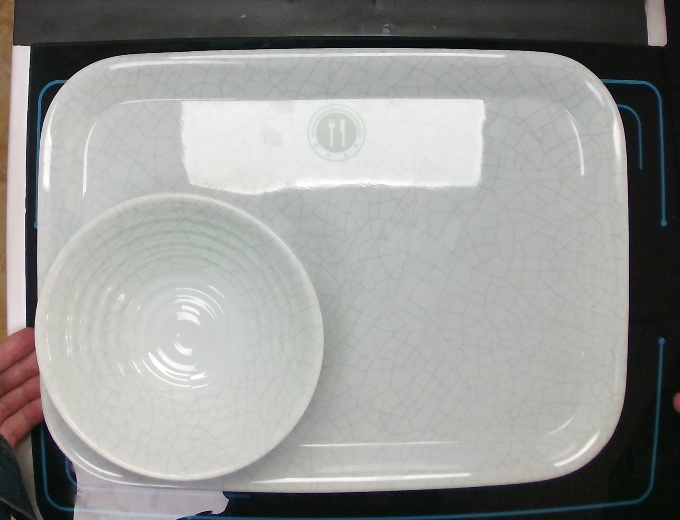JYsf-Xiao_Tang_Wan: (30, 192, 328, 483)
